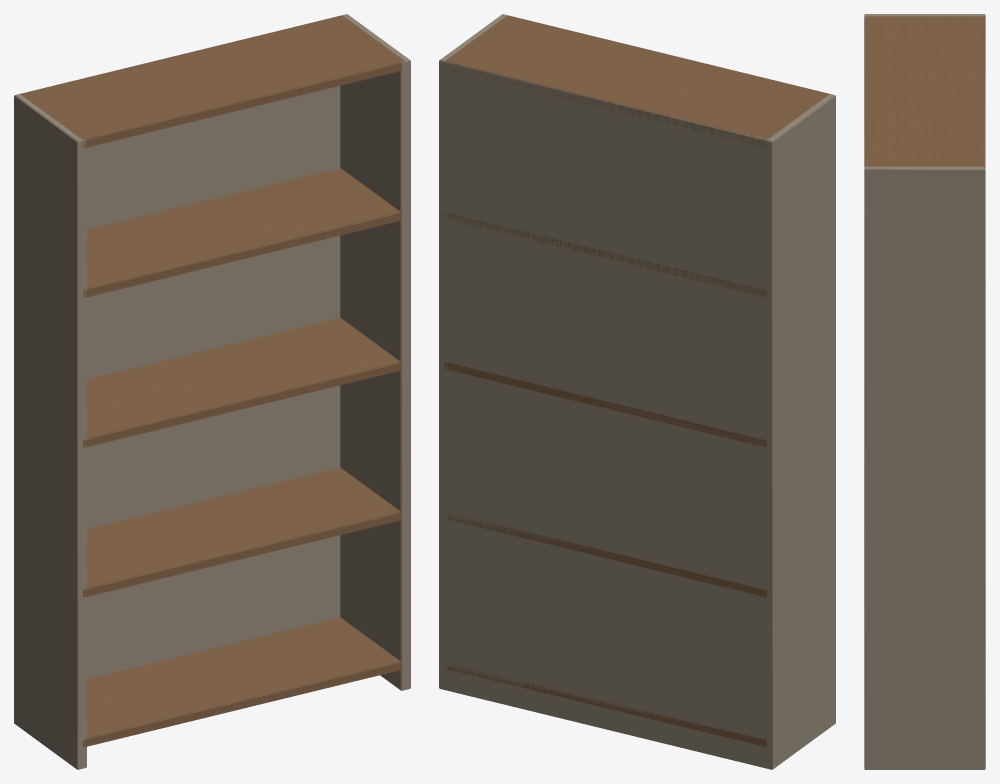
File: traditional.bookcase.gltf
3 views of the same model, side by side, from view 1: azimuth 30°, elevation 25°; view 2: azimuth 150°, elevation 25°; view 3: azimuth 270°, elevation 25° (orthographic). The views are drawn at different scales.
Visible parts, largest first — view 1: traditional.bookcase.upright; view 2: traditional.bookcase.upright; view 3: traditional.bookcase.upright.
Part boxes in pixels (x1,y1,x2,y2): traditional.bookcase.upright: (14, 14, 410, 769); traditional.bookcase.upright: (439, 14, 835, 769); traditional.bookcase.upright: (864, 14, 985, 769).
Size of the model in its own units: 1 by 1.8 by 0.33.
Materials: 2 (1 with a texture image).
